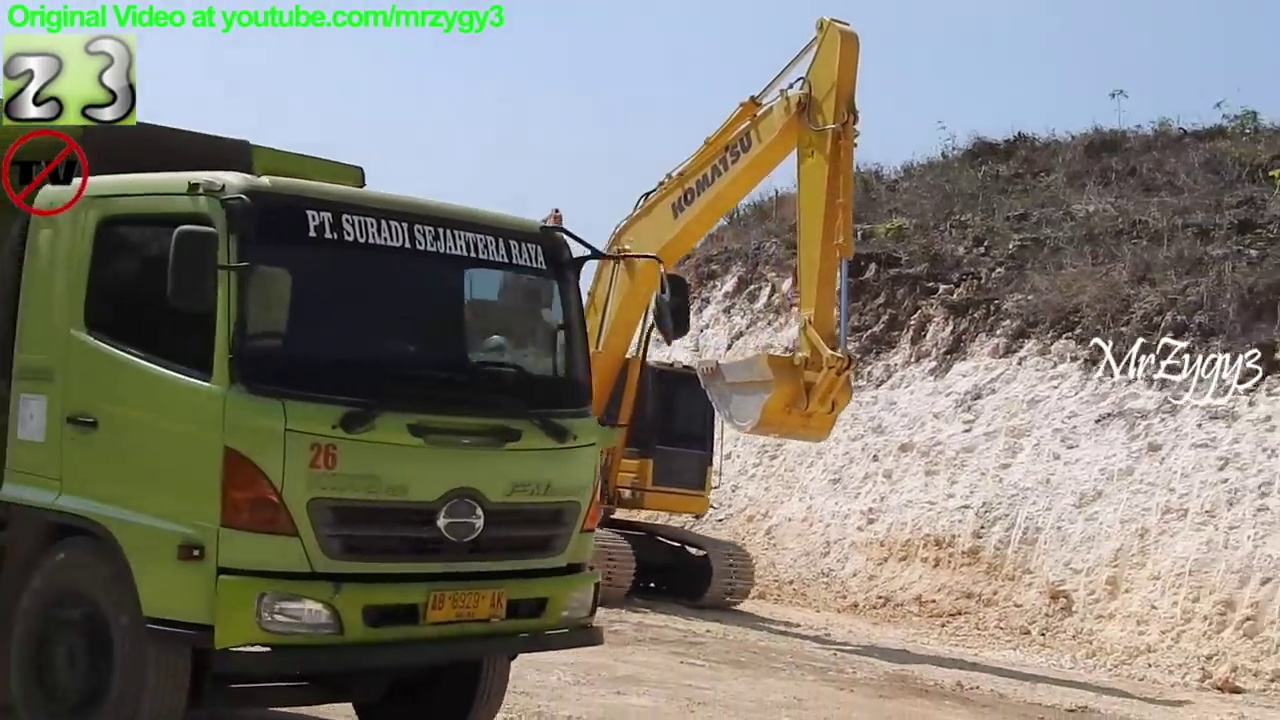excavator: (413, 13, 868, 620)
truck: (1, 89, 701, 720)
